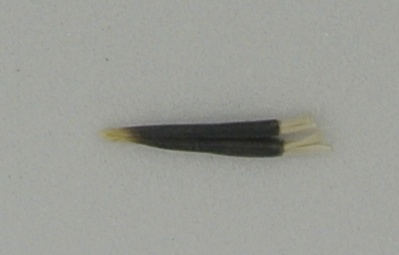เมล็ดดีติดกัน: (88, 110, 351, 160)
